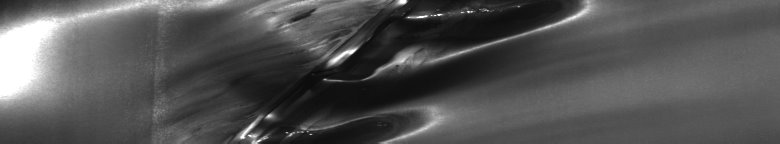ke: (198, 4, 589, 136)
